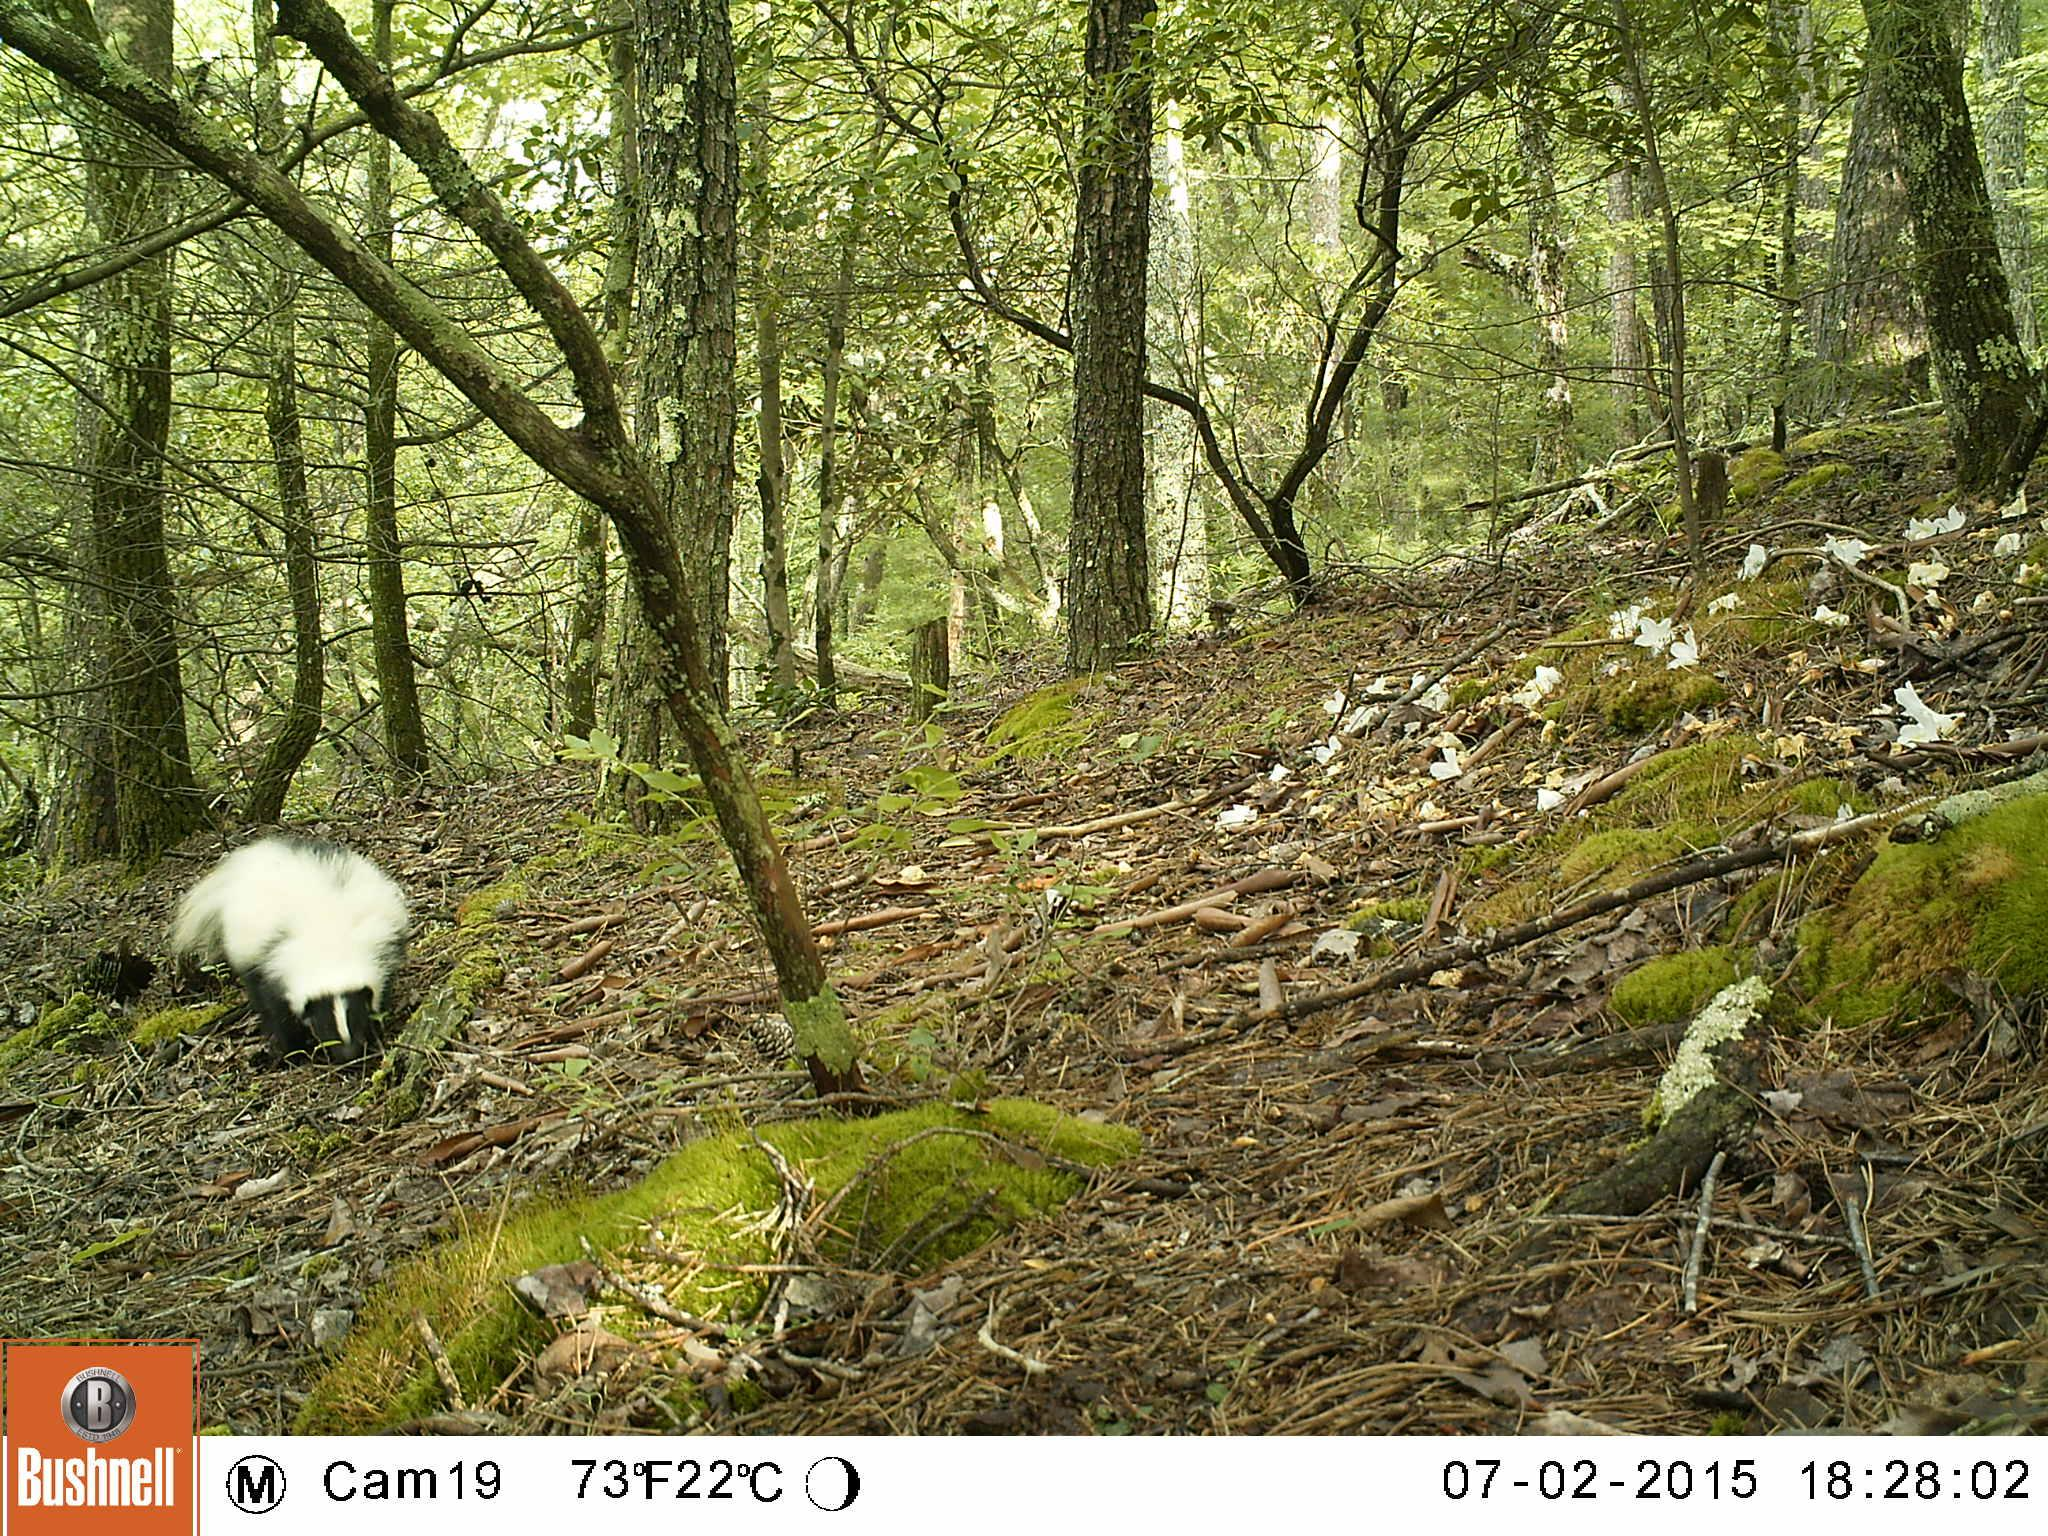Animal: (173, 836, 414, 1073)
